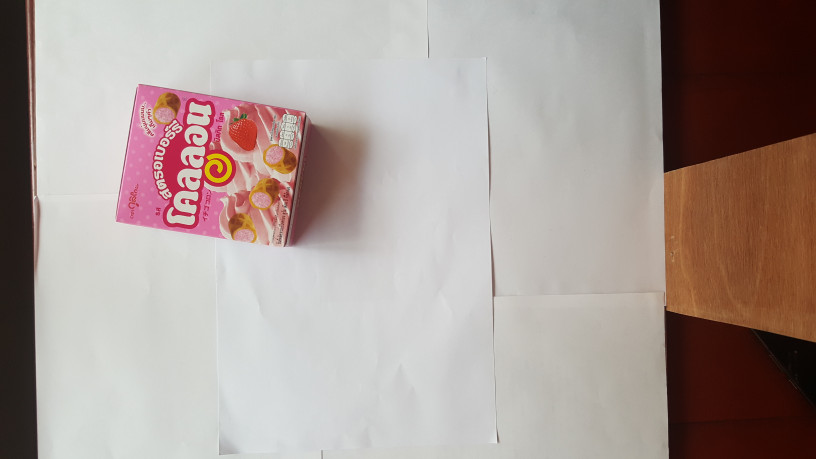collon-strawberry: (114, 83, 310, 250)
